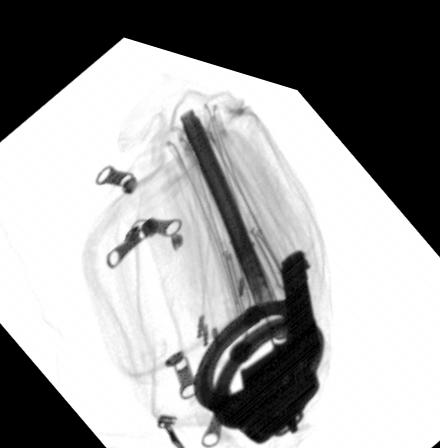Gun: (234, 228, 324, 385)
HandCuffs: (187, 273, 326, 431)
